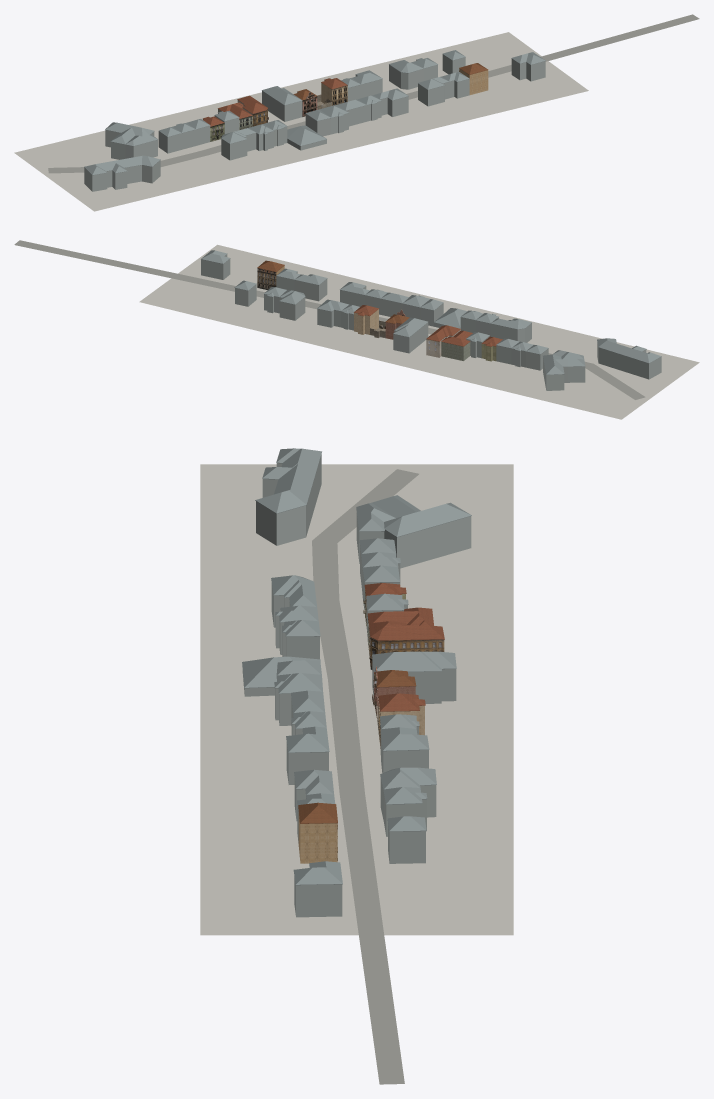
File: cechova.glb
The picture shows the model from 3 angles, top to bottom: view 1: azimuth 30°, elevation 25°; view 2: azimuth 150°, elevation 25°; view 3: azimuth 270°, elevation 25°; orthographic projection. The views are drawn at different scales.
Parts seen in each view (by area): view 1: CONTEXT ground, CP_1260_GIS_PLACEHOLDER, CONTEXT street 9m hypothesis 0_5, CP_1260_GIS_ROOF_0, CP_1296_GIS_PLACEHOLDER, CP_944_GIS_PLACEHOLDER, CP_1263_GIS_PLACEHOLDER, CP_938_GIS_ROOF_0, CP_1086_GIS_PLACEHOLDER, CP_1013_GIS_ROOF_0, CP_1205_GIS_PLACEHOLDER, CP_1251_GIS_PLACEHOLDER (+9 smaller); view 2: CONTEXT ground, CONTEXT street 9m hypothesis 0_5, CP_1260_GIS_PLACEHOLDER, CP_938_GIS_PLACEHOLDER, CP_1260_GIS_ROOF_0, CP_1296_GIS_PLACEHOLDER, CP_938_GIS_ROOF_0, CP_944_GIS_PLACEHOLDER, CONTEXT street 9m hypothesis 0_0, CP_1205_GIS_PLACEHOLDER, CP_1263_GIS_PLACEHOLDER, CONTEXT street 9m hypothesis 0_4 (+14 smaller); view 3: CONTEXT ground, CONTEXT street 9m hypothesis 0_5, CONTEXT street 9m hypothesis 0_4, CONTEXT street 9m hypothesis 0_3, CP_1260_GIS_ROOF_0, CP_938_GIS_PLACEHOLDER, CP_1260_GIS_PLACEHOLDER, CP_938_GIS_ROOF_0, CONTEXT street 9m hypothesis 0_2, CONTEXT street 9m hypothesis 0_0, CP_1296_GIS_ROOF_0, CP_1263_GIS_PLACEHOLDER (+11 smaller).
Part boxes in pixels (box(x1,y1,x2,y2)): CONTEXT ground: box(14, 32, 588, 211); CP_1260_GIS_PLACEHOLDER: box(84, 160, 160, 191); CONTEXT street 9m hypothesis 0_5: box(540, 14, 699, 61); CP_1260_GIS_ROOF_0: box(84, 155, 160, 175); CP_1296_GIS_PLACEHOLDER: box(262, 91, 302, 121); CP_944_GIS_PLACEHOLDER: box(221, 133, 256, 160); CP_1263_GIS_PLACEHOLDER: box(511, 59, 545, 81); CP_938_GIS_ROOF_0: box(105, 122, 154, 144); CP_1086_GIS_PLACEHOLDER: box(389, 65, 423, 89); CP_1013_GIS_ROOF_0: box(287, 125, 326, 146); CP_1205_GIS_PLACEHOLDER: box(418, 82, 448, 106); CP_1251_GIS_PLACEHOLDER: box(380, 96, 408, 116); CONTEXT ground: box(139, 244, 699, 419); CONTEXT street 9m hypothesis 0_5: box(14, 240, 187, 280); CP_1260_GIS_PLACEHOLDER: box(597, 343, 661, 379); CP_938_GIS_PLACEHOLDER: box(543, 358, 585, 390); CP_1260_GIS_ROOF_0: box(597, 338, 661, 363); CP_1296_GIS_PLACEHOLDER: box(393, 322, 428, 353); CP_938_GIS_ROOF_0: box(543, 354, 585, 374); CP_944_GIS_PLACEHOLDER: box(491, 323, 531, 342); CONTEXT street 9m hypothesis 0_0: box(585, 364, 645, 399); CP_1205_GIS_PLACEHOLDER: box(294, 279, 327, 301); CP_1263_GIS_PLACEHOLDER: box(201, 254, 230, 279); CONTEXT street 9m hypothesis 0_4: box(183, 276, 321, 309); CONTEXT ground: box(200, 464, 513, 935); CONTEXT street 9m hypothesis 0_5: box(357, 925, 404, 1084); CONTEXT street 9m hypothesis 0_4: box(339, 793, 382, 925); CONTEXT street 9m hypothesis 0_3: box(328, 678, 364, 794); CP_1260_GIS_ROOF_0: box(255, 448, 321, 513); CP_938_GIS_PLACEHOLDER: box(384, 516, 471, 568); CP_1260_GIS_PLACEHOLDER: box(256, 454, 321, 545); CP_938_GIS_ROOF_0: box(371, 495, 471, 537); CONTEXT street 9m hypothesis 0_2: box(316, 600, 352, 679); CONTEXT street 9m hypothesis 0_0: box(312, 469, 418, 543); CP_1296_GIS_ROOF_0: box(372, 651, 456, 671); CP_1263_GIS_PLACEHOLDER: box(294, 877, 342, 917).
Bounding box in the file's own units: 520 × 19.66 × 111.
57 materials, 29 textured.
